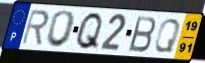2: (98, 12, 129, 53)
B: (127, 14, 157, 53)
O: (44, 10, 78, 49)
Q: (74, 11, 105, 52), (152, 18, 182, 55)
R: (20, 9, 51, 46)
